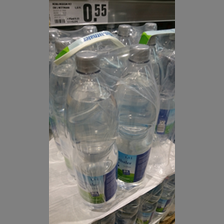water: (64, 50, 119, 213), (115, 45, 159, 188)
